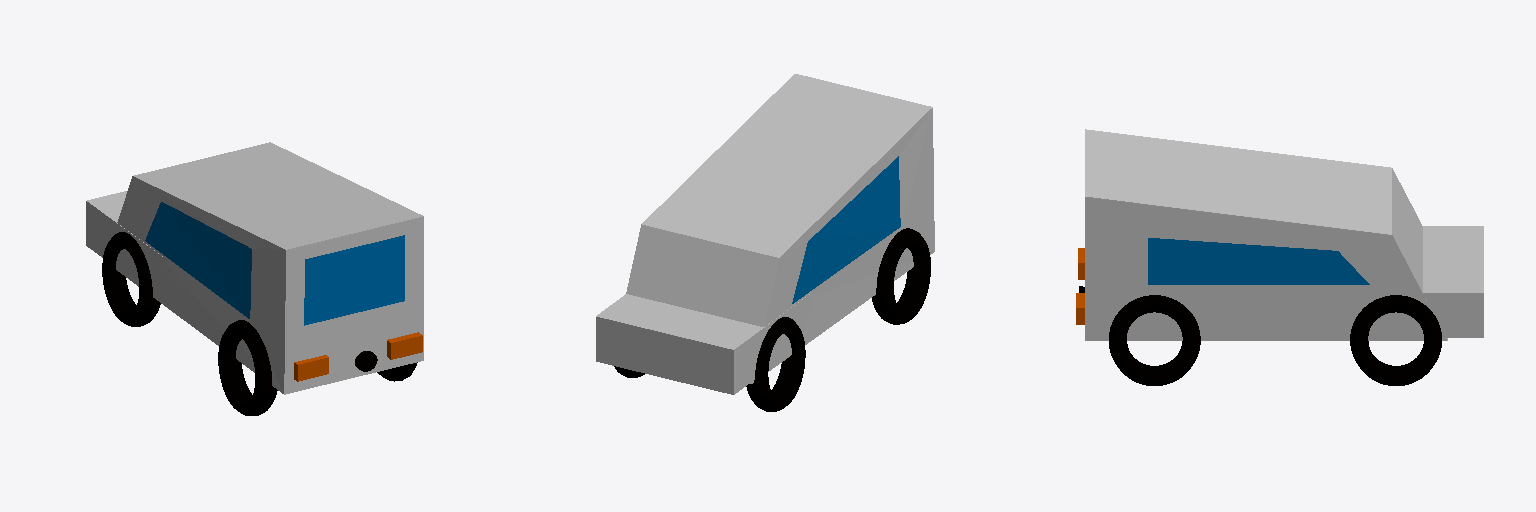
The model's file is van.obj.
3 renders of one model, left to right at view 1: azimuth 30°, elevation 25°; view 2: azimuth 150°, elevation 25°; view 3: azimuth 270°, elevation 25°, orthographic.
Parts seen in each view (by area): view 1: Cube_Cube.001, Torus.003, Torus.002, Cube.001_Cube.002, Cube.003_Cube.004, Cube.002_Cube.003; view 2: Cube_Cube.001, Cube.001_Cube.002, Torus.003, Torus.002; view 3: Cube_Cube.001, Cube.001_Cube.002, Torus, Torus.001.
Part boxes in pixels (x1,y1,x2,y2): Cube_Cube.001: (116, 142, 423, 394); Torus.003: (218, 320, 277, 415); Torus.002: (102, 232, 160, 326); Cube.001_Cube.002: (86, 191, 165, 283); Cube.003_Cube.004: (387, 332, 422, 359); Cube.002_Cube.003: (294, 355, 328, 381); Cube_Cube.001: (626, 74, 934, 383); Cube.001_Cube.002: (596, 292, 812, 394); Torus.003: (872, 228, 930, 324); Torus.002: (746, 317, 805, 411); Cube_Cube.001: (1085, 129, 1447, 340); Cube.001_Cube.002: (1423, 226, 1483, 337); Torus: (1109, 295, 1200, 385); Torus.001: (1350, 295, 1441, 385).
Bounding box in the file's own units: 2.4 × 2.6 × 5.12.